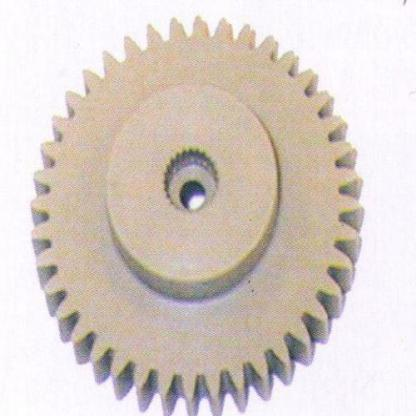FOD: (24, 8, 367, 415)
